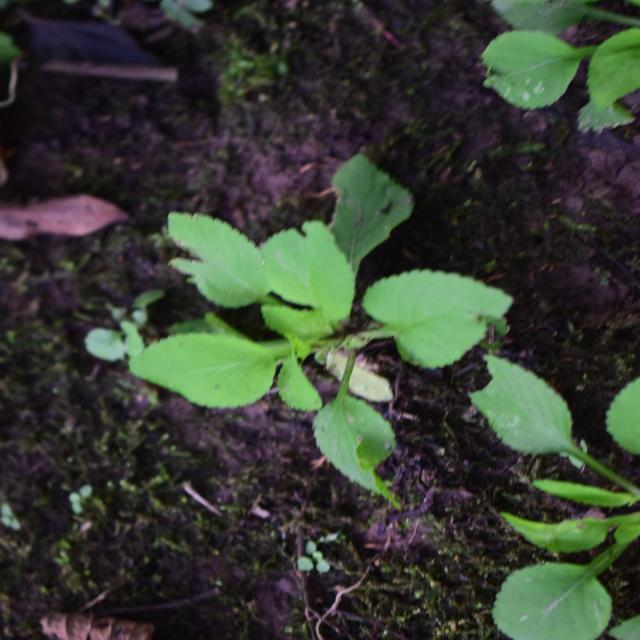Viola: (174, 121, 454, 487)
